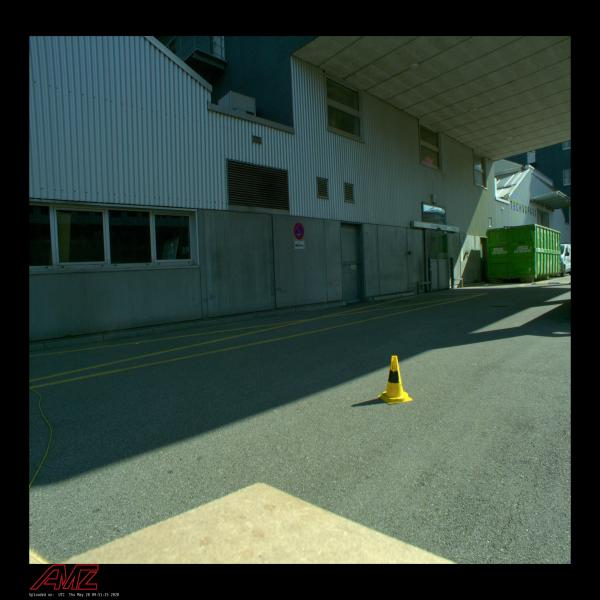yellow_cone: (378, 356, 413, 405)
